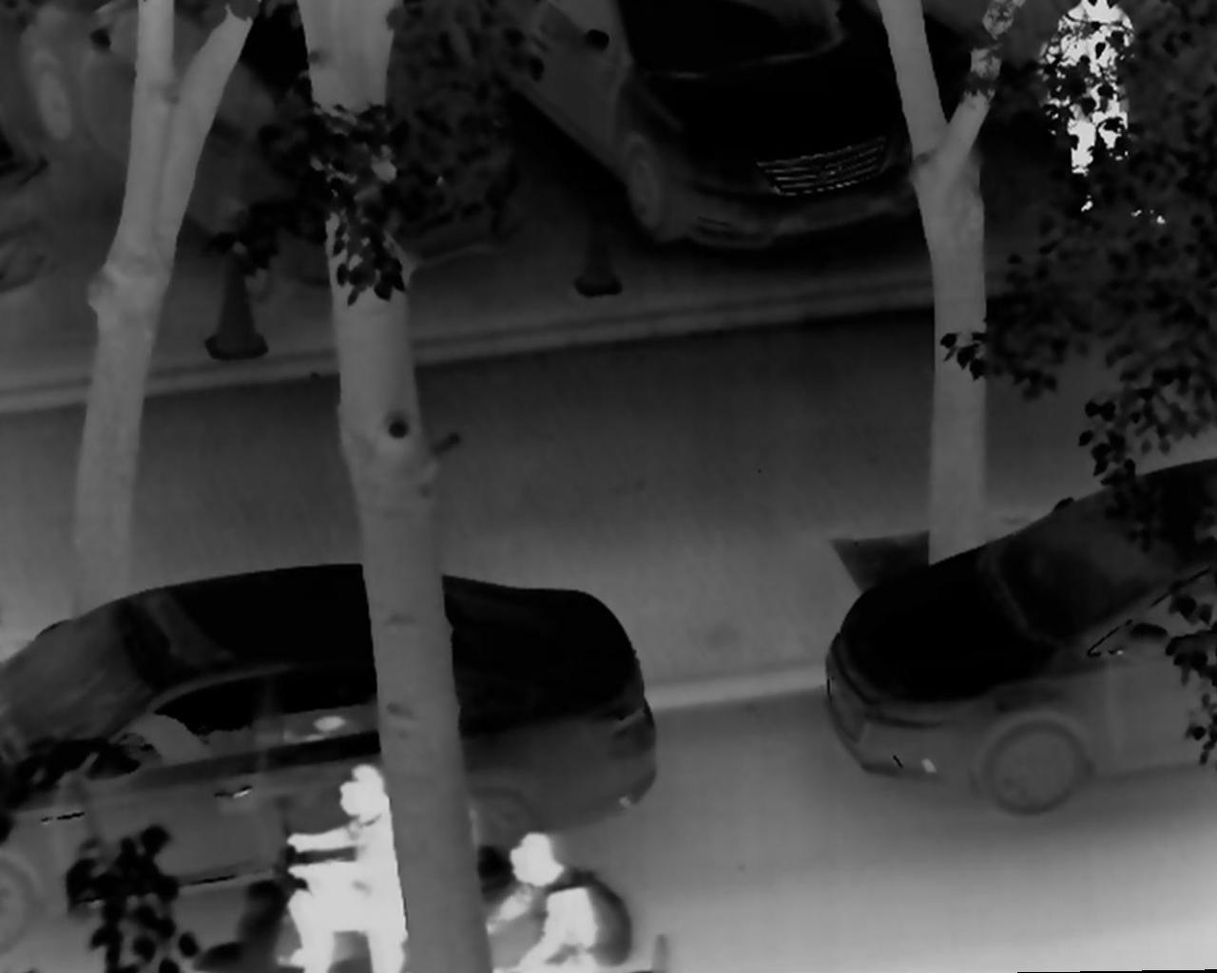person: (279, 764, 419, 973), (463, 825, 611, 973)
